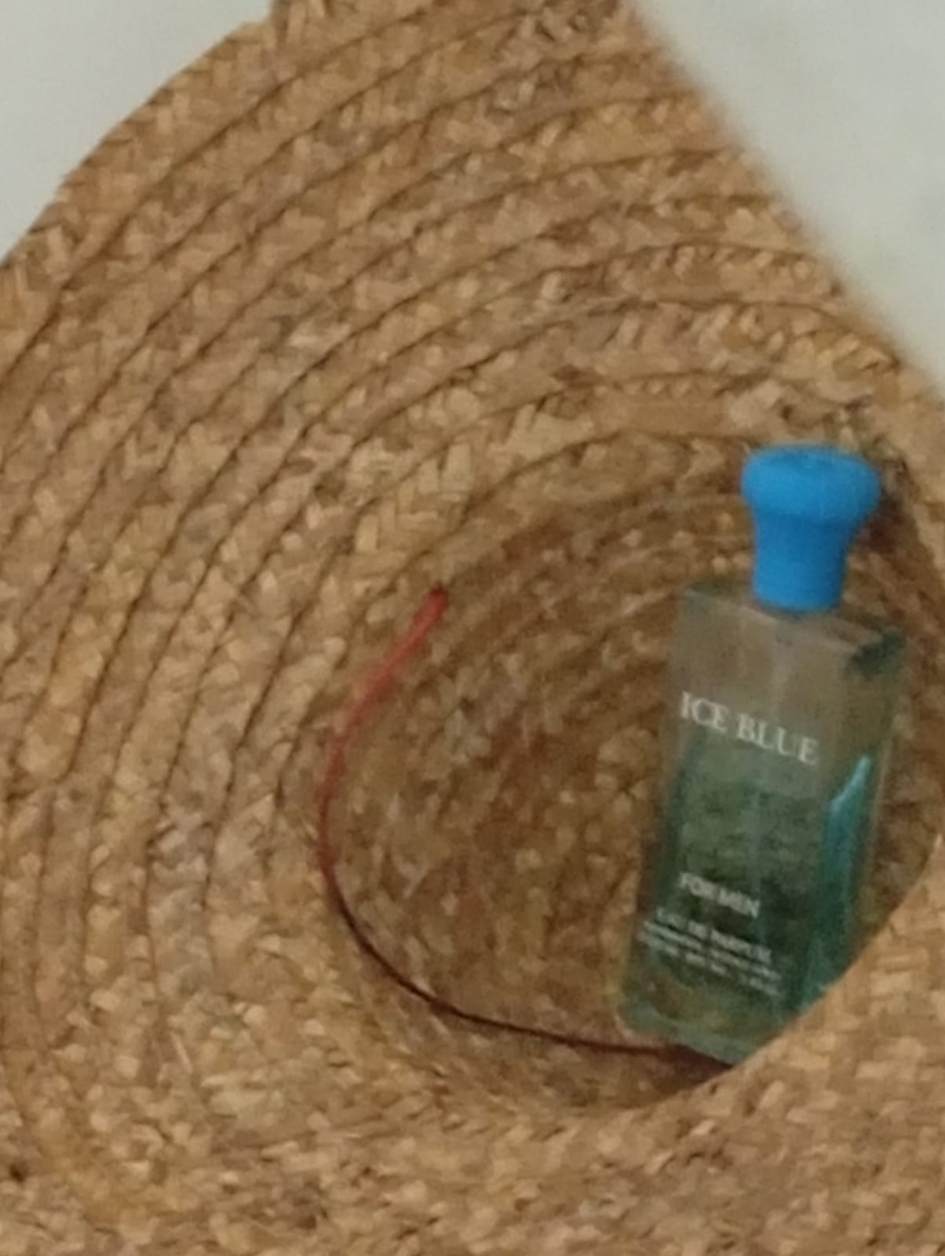Parfum: (653, 418, 945, 1072)
